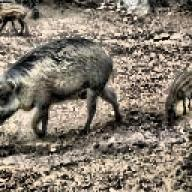boar: (0, 34, 122, 140)
